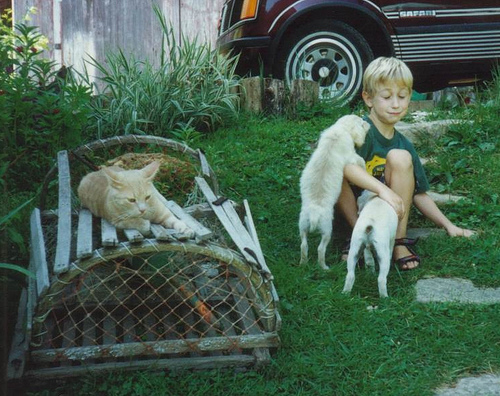without_mask: (364, 78, 410, 124)
